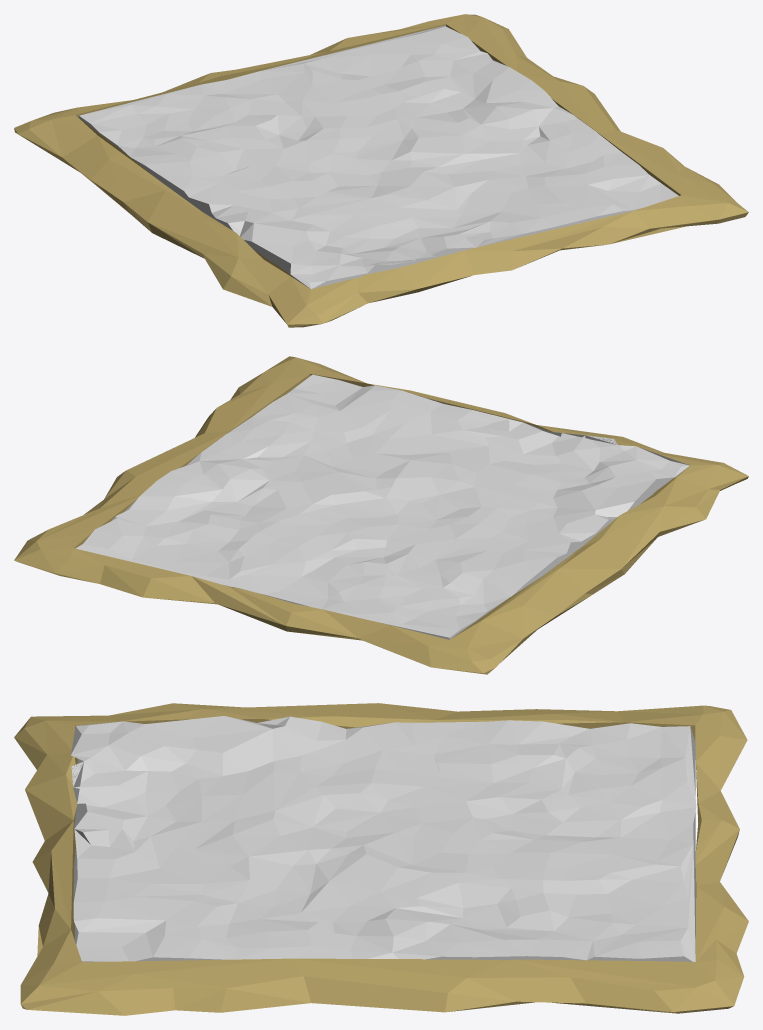
Rendered from ground.fbx.
3 renders of one model, top to bottom at view 1: azimuth 30°, elevation 25°; view 2: azimuth 150°, elevation 25°; view 3: azimuth 270°, elevation 25°, orthographic. The views are drawn at different scales.
Visible parts, largest first — view 1: Floor, Floor end; view 2: Floor, Floor end; view 3: Floor, Floor end.
Part boxes in pixels (x1,y1,x2,y2): Floor: (78,25,678,289); Floor end: (14,14,748,327); Floor: (75,374,689,639); Floor end: (14,356,748,674); Floor: (71,716,696,962); Floor end: (14,703,748,1015).
Size of the model in its own units: 557 by 27.53 by 566.
